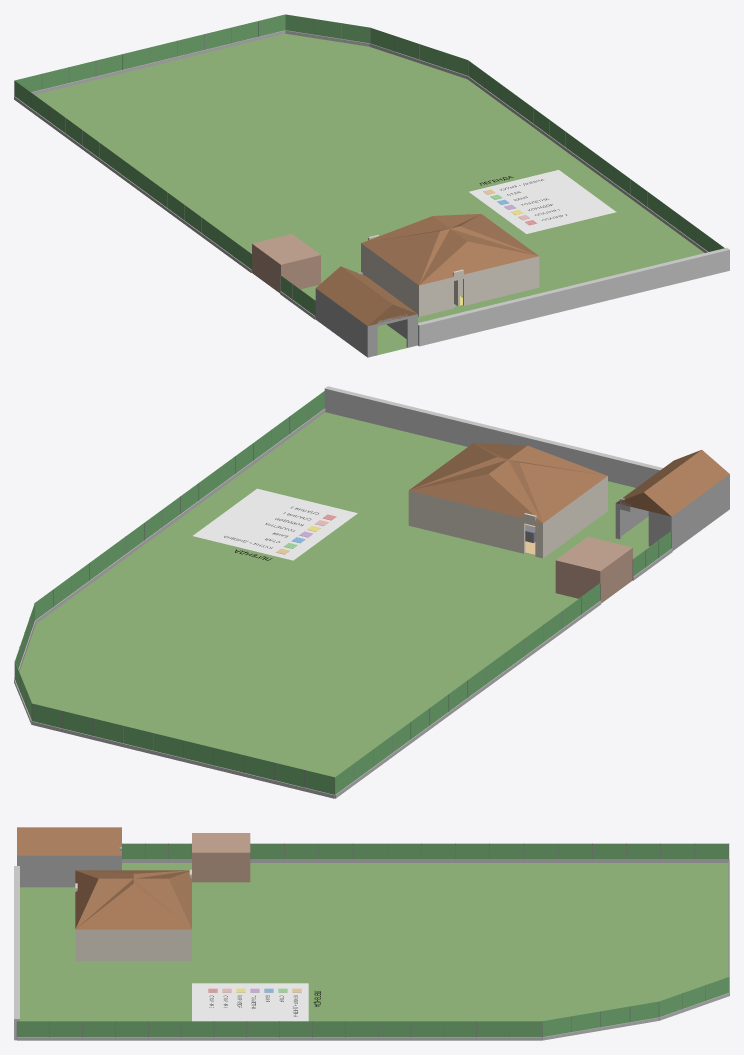
The model's file is parcel.glb.
3 renders of one model, top to bottom at view 1: azimuth 30°, elevation 25°; view 2: azimuth 150°, elevation 25°; view 3: azimuth 270°, elevation 25°, orthographic. The views are drawn at different scales.
Parts seen in each view (by area): view 1: Parcel.004, Street_Wall.004, Legend_BG.002, Fence_4_mesh.004, Fence_1_mesh.004, House_Roof.008, Fence_Left_Back_mesh.004, House_Roof.007, Summer_Kitchen.004, Garage_Roof.007, House_Front_Right.002, House_Left.002 (+8 smaller); view 2: Parcel.004, Street_Wall.004, Legend_BG.002, Fence_4_mesh.004, Fence_1_mesh.004, House_Roof.008, Fence_Left_Back_mesh.004, House_Roof.007, House_Back_Right.002, Summer_Kitchen.004, Garage_Roof.007, House_Left.002 (+5 smaller); view 3: Parcel.004, Fence_1_mesh.004, Fence_Left_Back_mesh.004, Legend_BG.002, House_Right.002, House_Roof.007, House_Roof.008, Garage_Roof.007, Summer_Kitchen.004, Garage_Right.002, Fence_1_concrete.004, Fence_2_mesh.004 (+5 smaller).
Boxes of the visible parts, x1,y1,x2,y2 form: Parcel.004: (35,33,704,354); Street_Wall.004: (418,247,729,346); Legend_BG.002: (469,170,616,233); Fence_4_mesh.004: (15,14,285,92); Fence_1_mesh.004: (468,60,724,251); House_Roof.008: (362,214,538,285); Fence_Left_Back_mesh.004: (14,81,251,269); House_Roof.007: (361,214,538,284); Summer_Kitchen.004: (252,234,320,293); Garage_Roof.007: (316,266,417,325); House_Front_Right.002: (463,257,537,305); House_Left.002: (361,243,420,316); Parcel.004: (19,412,649,776); Street_Wall.004: (324,386,662,487); Legend_BG.002: (193,488,357,560); Fence_4_mesh.004: (32,703,334,794); Fence_1_mesh.004: (35,391,324,619); House_Roof.008: (409,443,606,523); Fence_Left_Back_mesh.004: (335,583,600,794); House_Roof.007: (409,443,607,522); House_Back_Right.002: (410,491,525,553); Summer_Kitchen.004: (555,536,632,602); Garage_Roof.007: (616,450,729,516); House_Left.002: (541,476,607,558); Parcel.004: (20,863,728,1021); Fence_1_mesh.004: (17,1021,541,1036); Fence_Left_Back_mesh.004: (250,843,728,859); Legend_BG.002: (192,983,308,1021); House_Right.002: (75,929,191,961); House_Roof.007: (75,870,191,929); House_Roof.008: (75,870,191,928); Garage_Roof.007: (17,827,121,855); Summer_Kitchen.004: (192,833,250,882); Garage_Right.002: (17,855,121,887); Fence_1_concrete.004: (17,1037,542,1040); Fence_2_mesh.004: (542,1001,658,1036).
Bounding box in the file's own units: 36.15 × 5 × 61.33.
